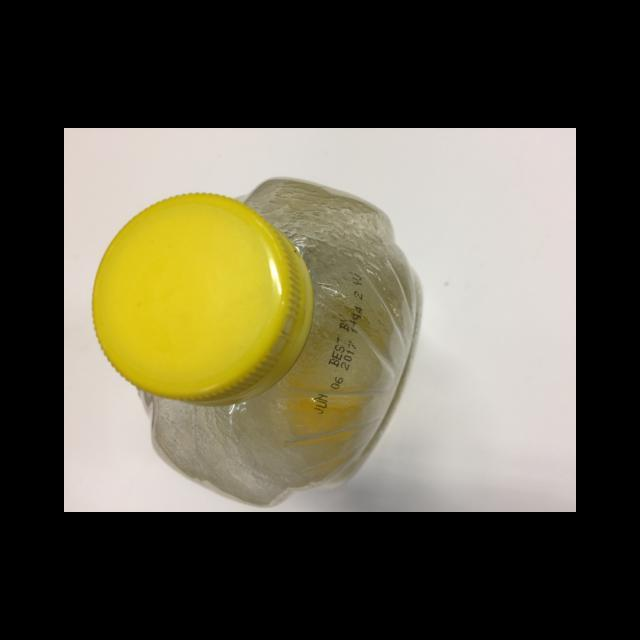plastic: (90, 178, 418, 508), (91, 191, 312, 406)
